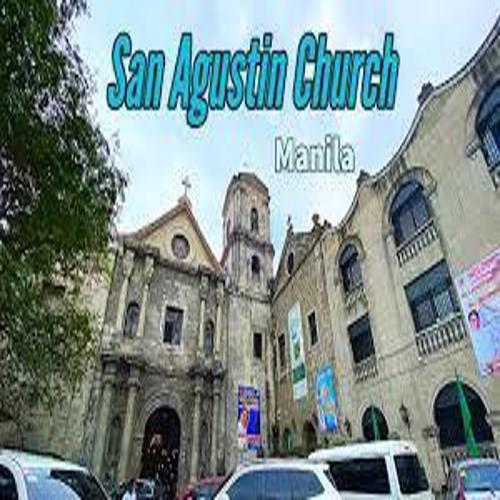San Agustin Church: (99, 131, 282, 492)
